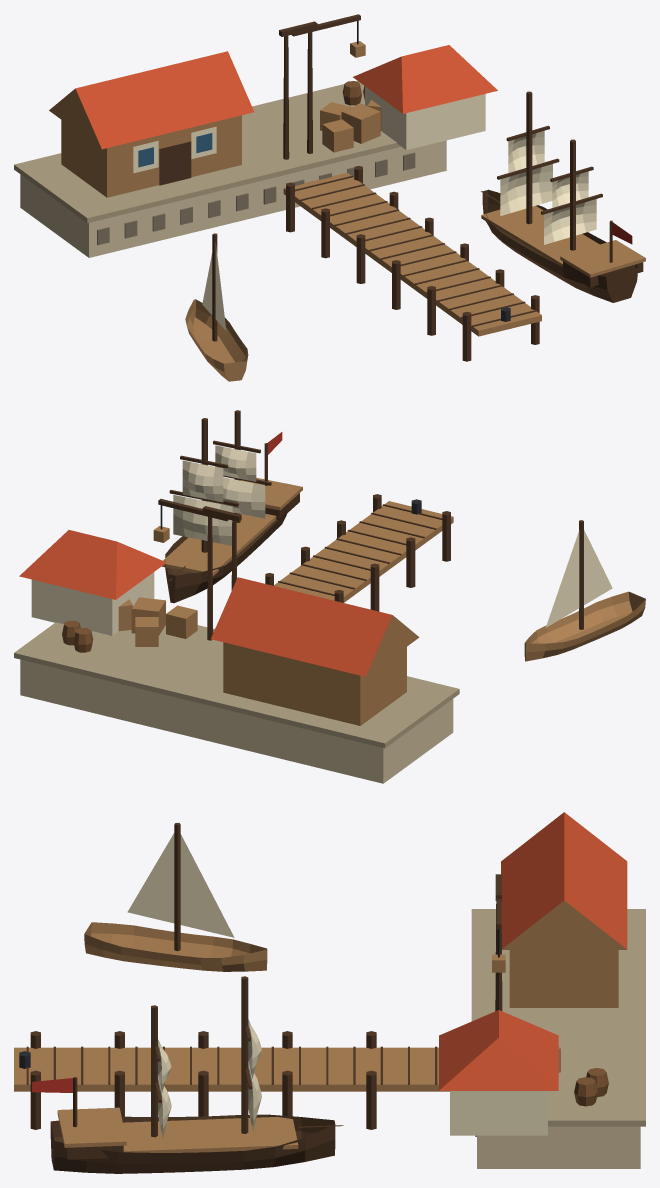
The model's file is district_harbor_2.fbx.
3 renders of one model, top to bottom at view 1: azimuth 30°, elevation 25°; view 2: azimuth 150°, elevation 25°; view 3: azimuth 270°, elevation 25°, orthographic. The views are drawn at different scales.
Parts seen in each view (by area): view 1: district_harbor_2; view 2: district_harbor_2; view 3: district_harbor_2.
Boxes of the visible parts, box(x1,y1,x2,y2) form: district_harbor_2: box(14, 14, 645, 381); district_harbor_2: box(14, 410, 645, 783); district_harbor_2: box(14, 812, 645, 1173).
Size of the model in its own units: 106 by 44.2 by 116.
